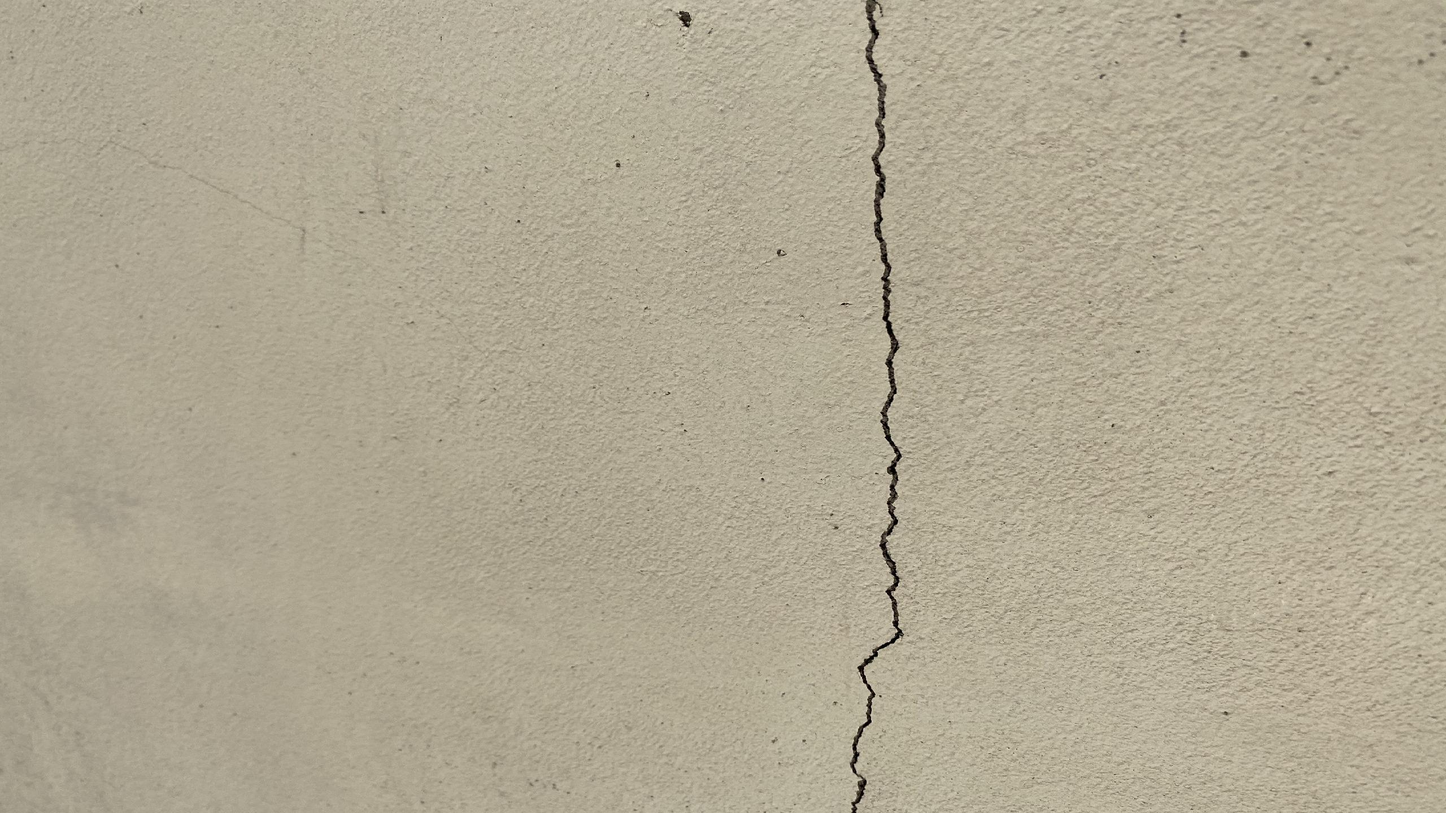crack: (851, 0, 904, 809)
